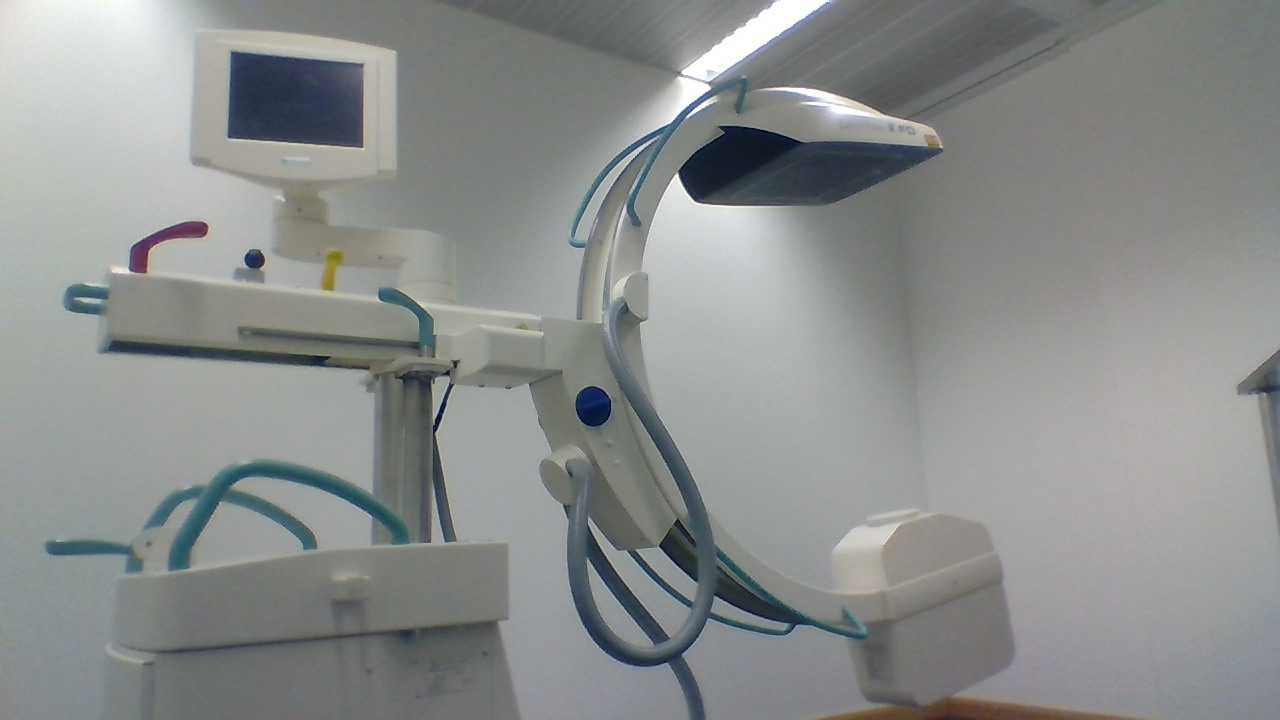carmBACK: (43, 524, 205, 574)
carmDOWN: (831, 506, 1002, 596)
carmLOCK: (576, 384, 612, 429)
carmSCREEN: (189, 26, 402, 188)
carmUP: (679, 85, 944, 209)
